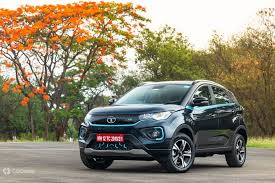Tata Nexon: (78, 80, 248, 175)
